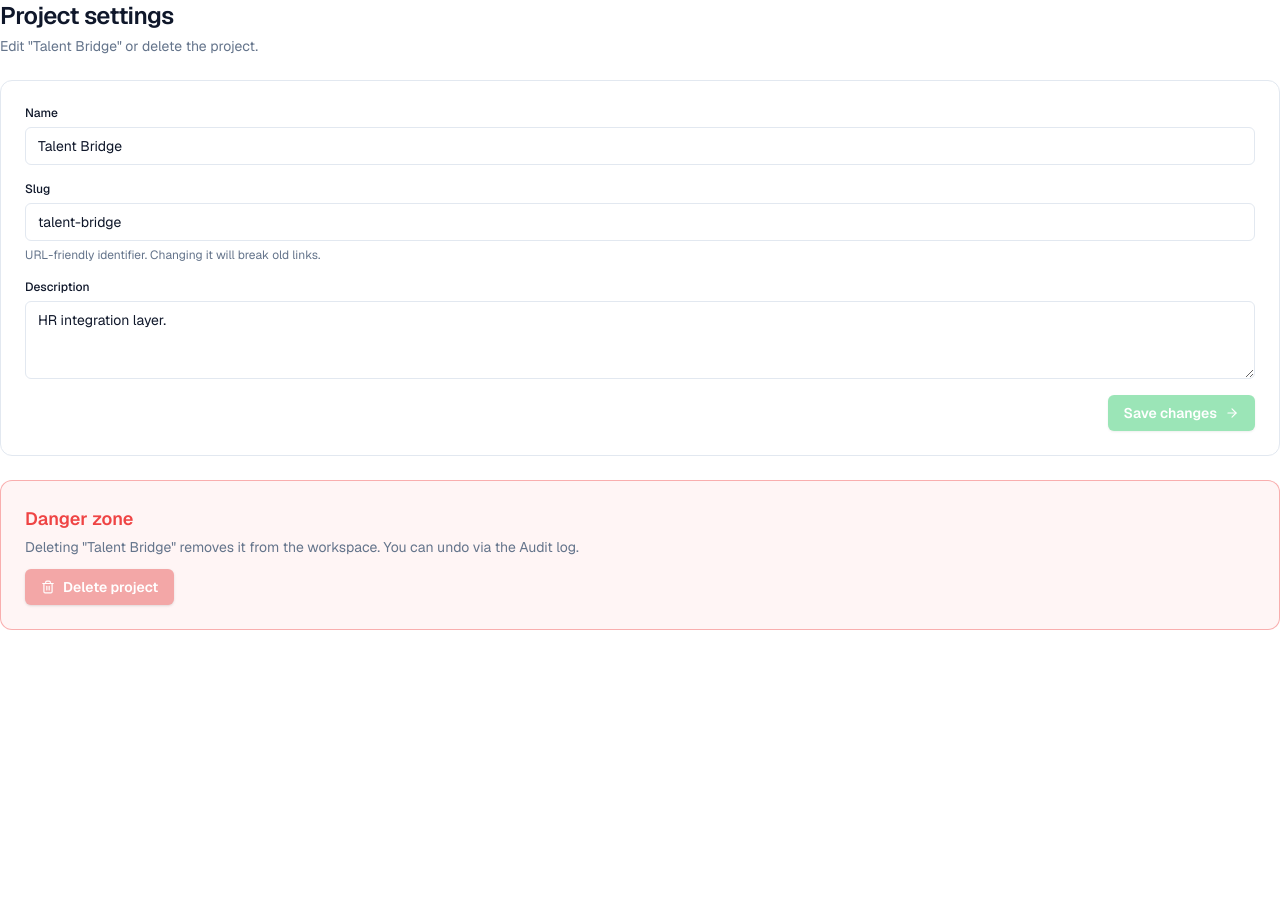
Scenario: ProjectSettingsPage › should open the delete confirm dialog when Danger Zone delete is clicked
This screenshot has width=1280, height=900.
Expected: the field labelled "Name" is shown, [25,127,1255,165]
Click the button "Delete project" at (100, 587), box [25,569,174,605]
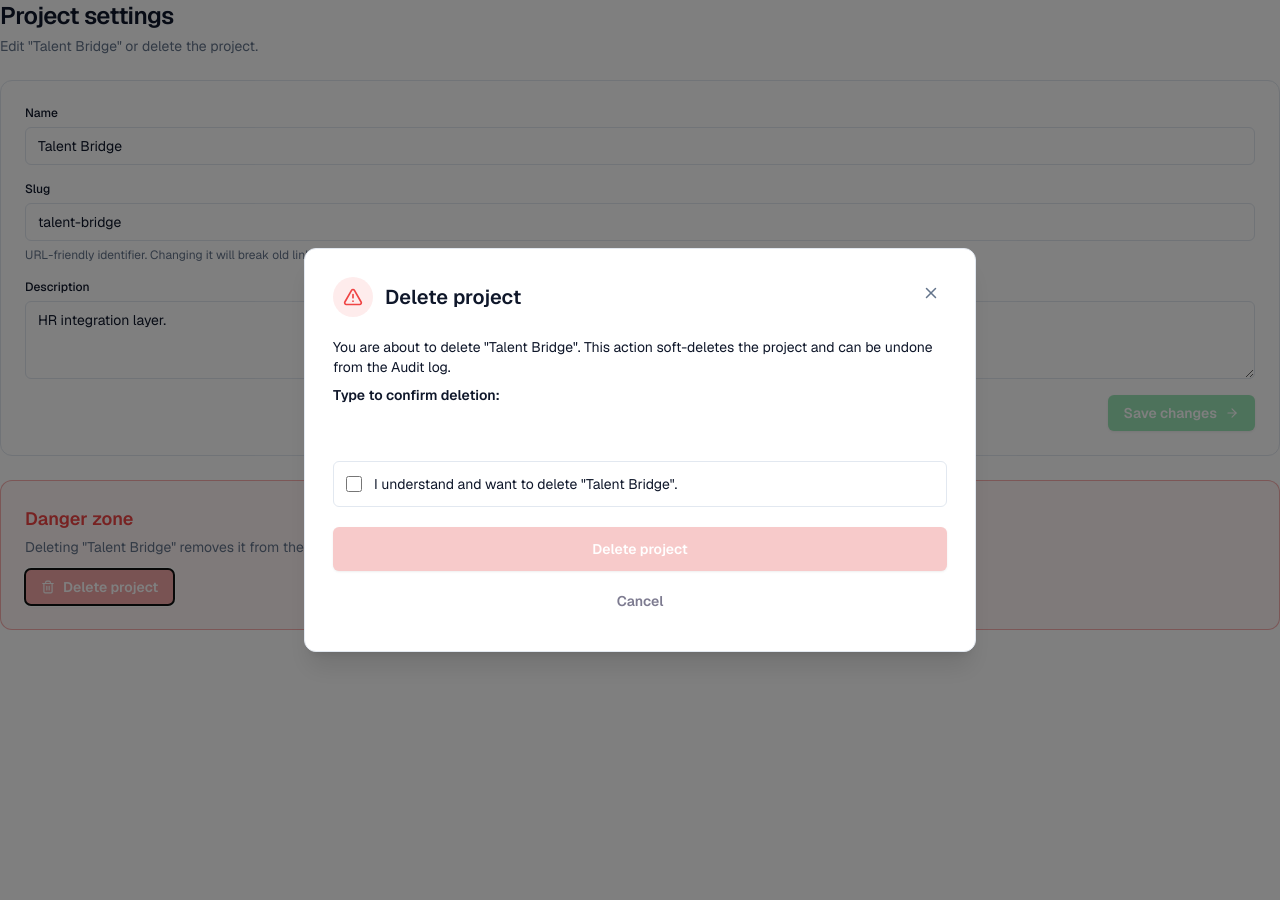
Result: the dialog is shown
Result: the heading "Delete project" is shown at [385,283,521,311]
